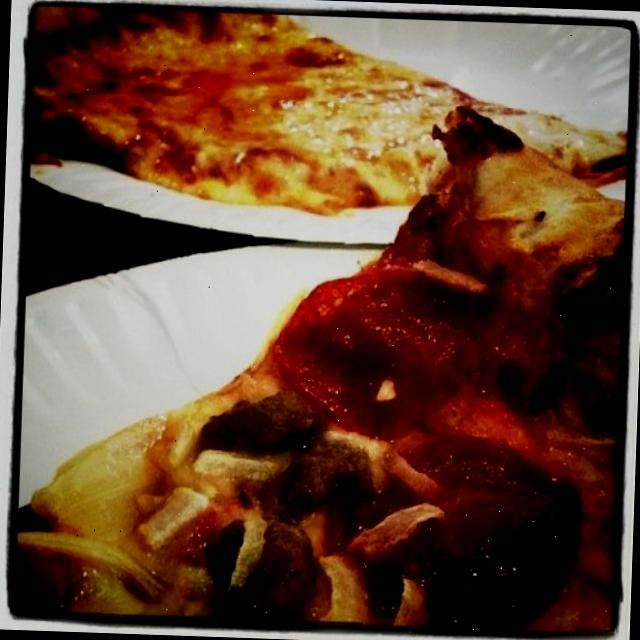pepperoni: (362, 429, 581, 640), (248, 251, 492, 436)
pizza: (16, 108, 626, 632), (33, 7, 625, 215)
